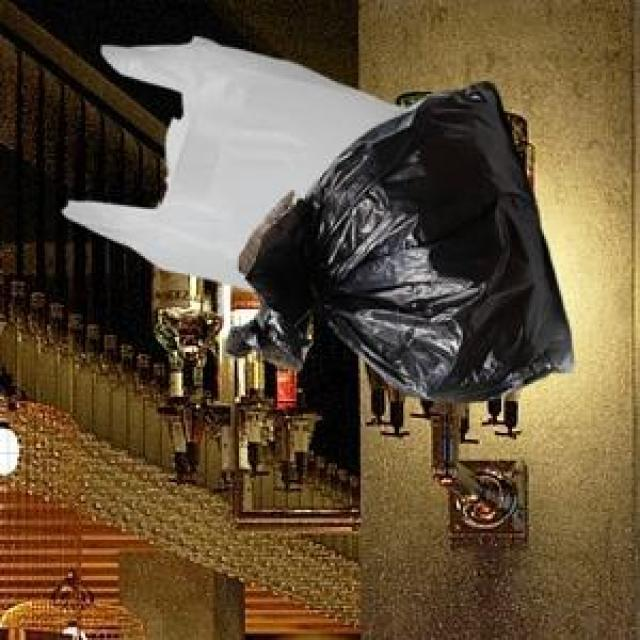miscellaneous trash: (220, 77, 570, 399)
